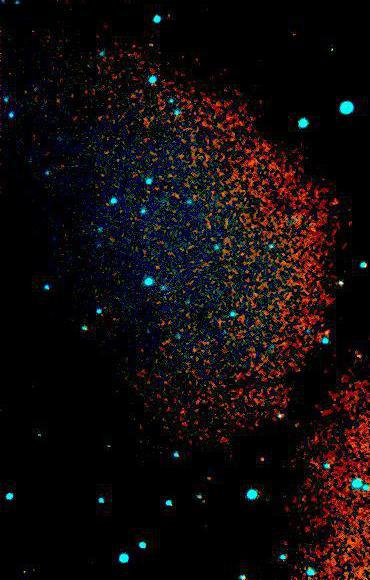star: (312, 317, 342, 347)
